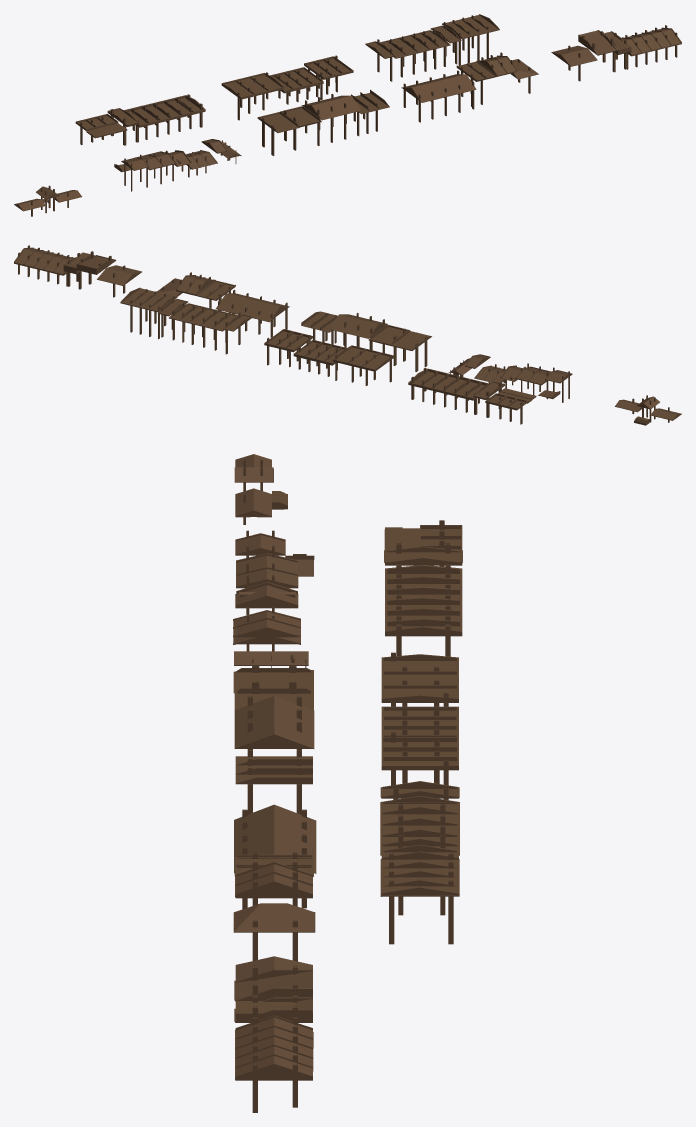
File: busy-levee-rooftops.obj
The picture shows the model from 3 angles, top to bottom: view 1: azimuth 30°, elevation 25°; view 2: azimuth 150°, elevation 25°; view 3: azimuth 270°, elevation 25°; orthographic projection. The views are drawn at different scales.
Parts seen in each view (by area): view 1: Blocks; view 2: Blocks; view 3: Blocks.
Part boxes in pixels (x1,y1,x2,y2): Blocks: [14, 14, 681, 216]; Blocks: [14, 245, 681, 425]; Blocks: [233, 454, 462, 1112].
Bounding box in the file's own units: 3357 × 214 × 516.
